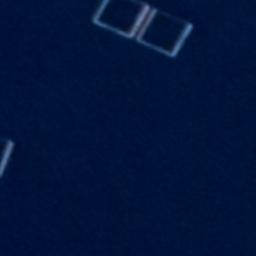square_solid: (133, 7, 195, 61), (90, 1, 152, 40)
